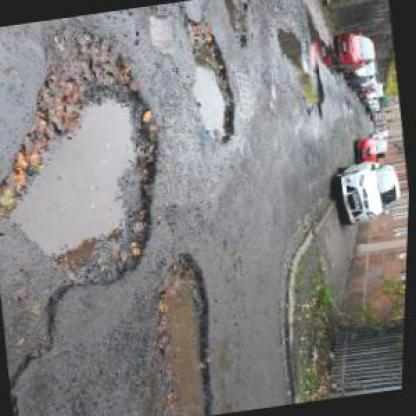pothole: (0, 22, 190, 308), (138, 248, 232, 415), (174, 8, 246, 150), (292, 62, 332, 122), (270, 22, 310, 71)
